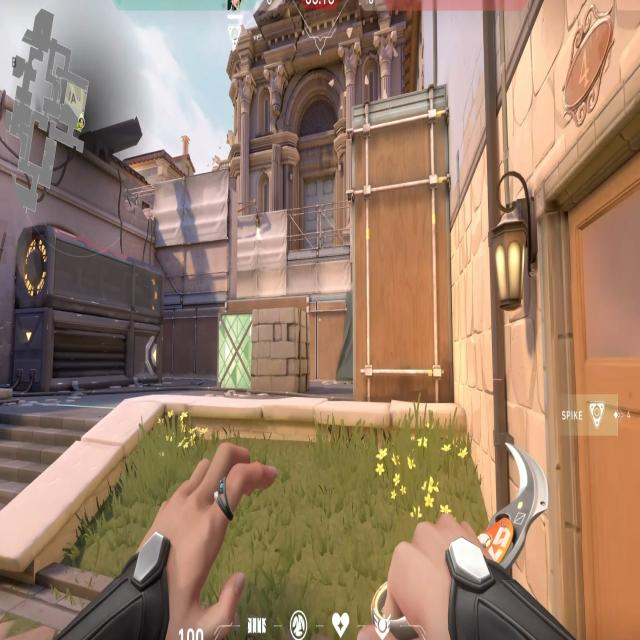A_Heaven_Wall: (152, 164, 242, 298)
A_Site_Box: (215, 306, 309, 397)
